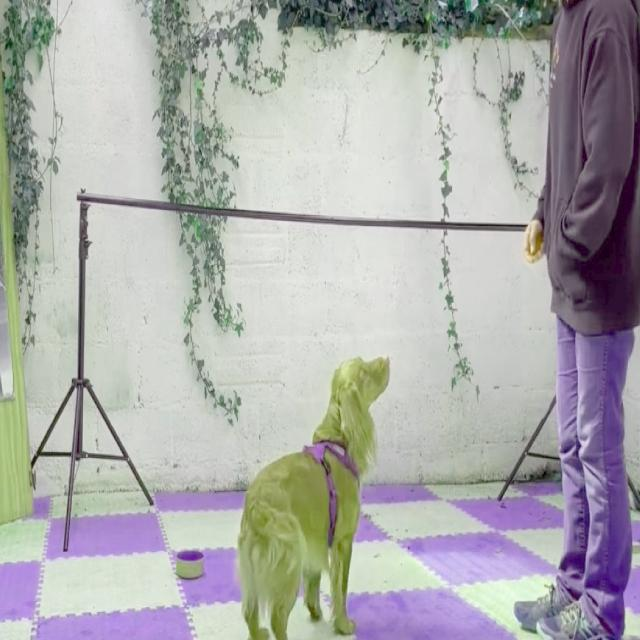Unleashed_Dog: (236, 354, 624, 640)
